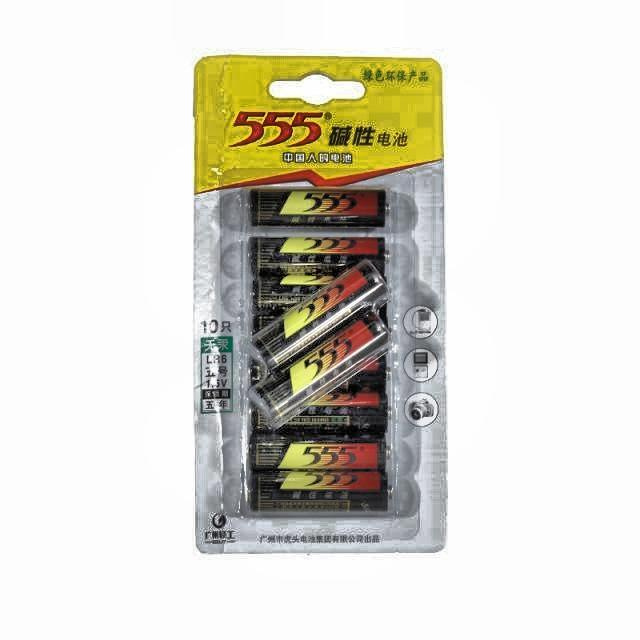battery: (249, 189, 390, 512)
